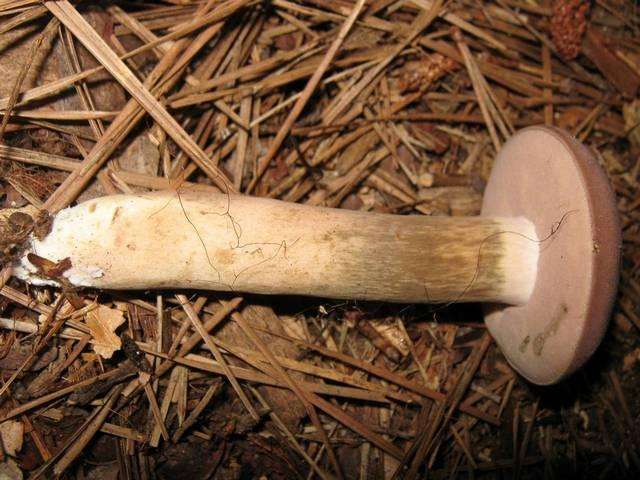Non-edible Mushroom: (7, 122, 623, 386)
